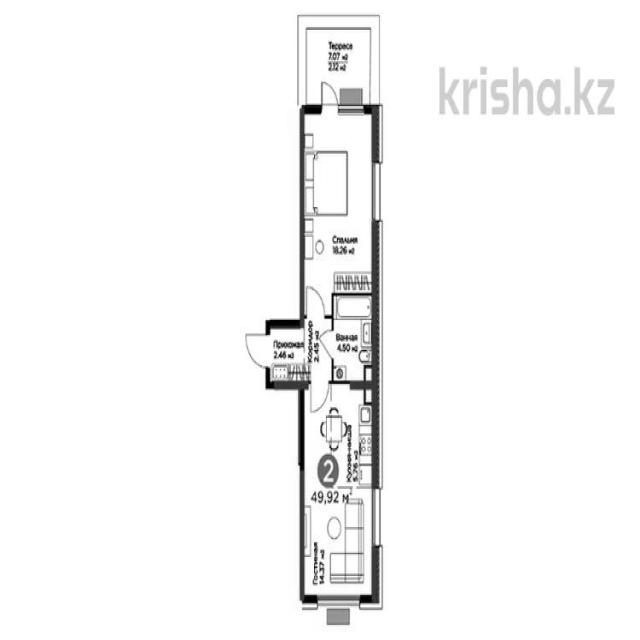balcony: (299, 17, 382, 111)
bathroom: (333, 292, 376, 383)
hallway: (267, 318, 334, 384)
living_room: (298, 111, 380, 291)
studio: (302, 385, 377, 604)
